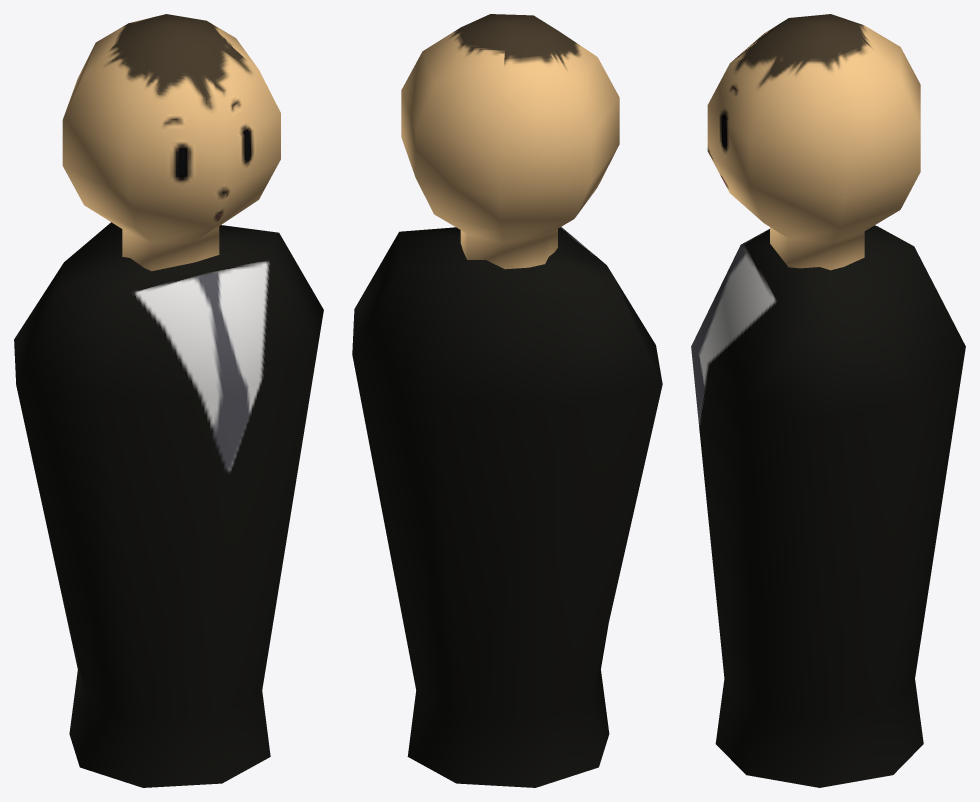
File: Person_Body_Object.fbx
3 renders of one model, left to right at view 1: azimuth 30°, elevation 25°; view 2: azimuth 150°, elevation 25°; view 3: azimuth 270°, elevation 25°, orthographic.
Visible parts, largest first — view 1: PersonBody; view 2: PersonBody; view 3: PersonBody.
Boxes of the visible parts, x1,y1,x2,y2 form: PersonBody: [14, 14, 323, 787]; PersonBody: [352, 14, 662, 787]; PersonBody: [691, 14, 965, 787].
Bounding box in the file's own units: 3.57 × 8 × 2.77.
1 material, 1 textured.
